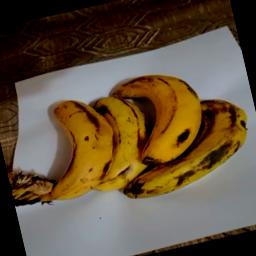Banana Unripe: (12, 86, 124, 208), (116, 60, 208, 168), (94, 81, 158, 200)
